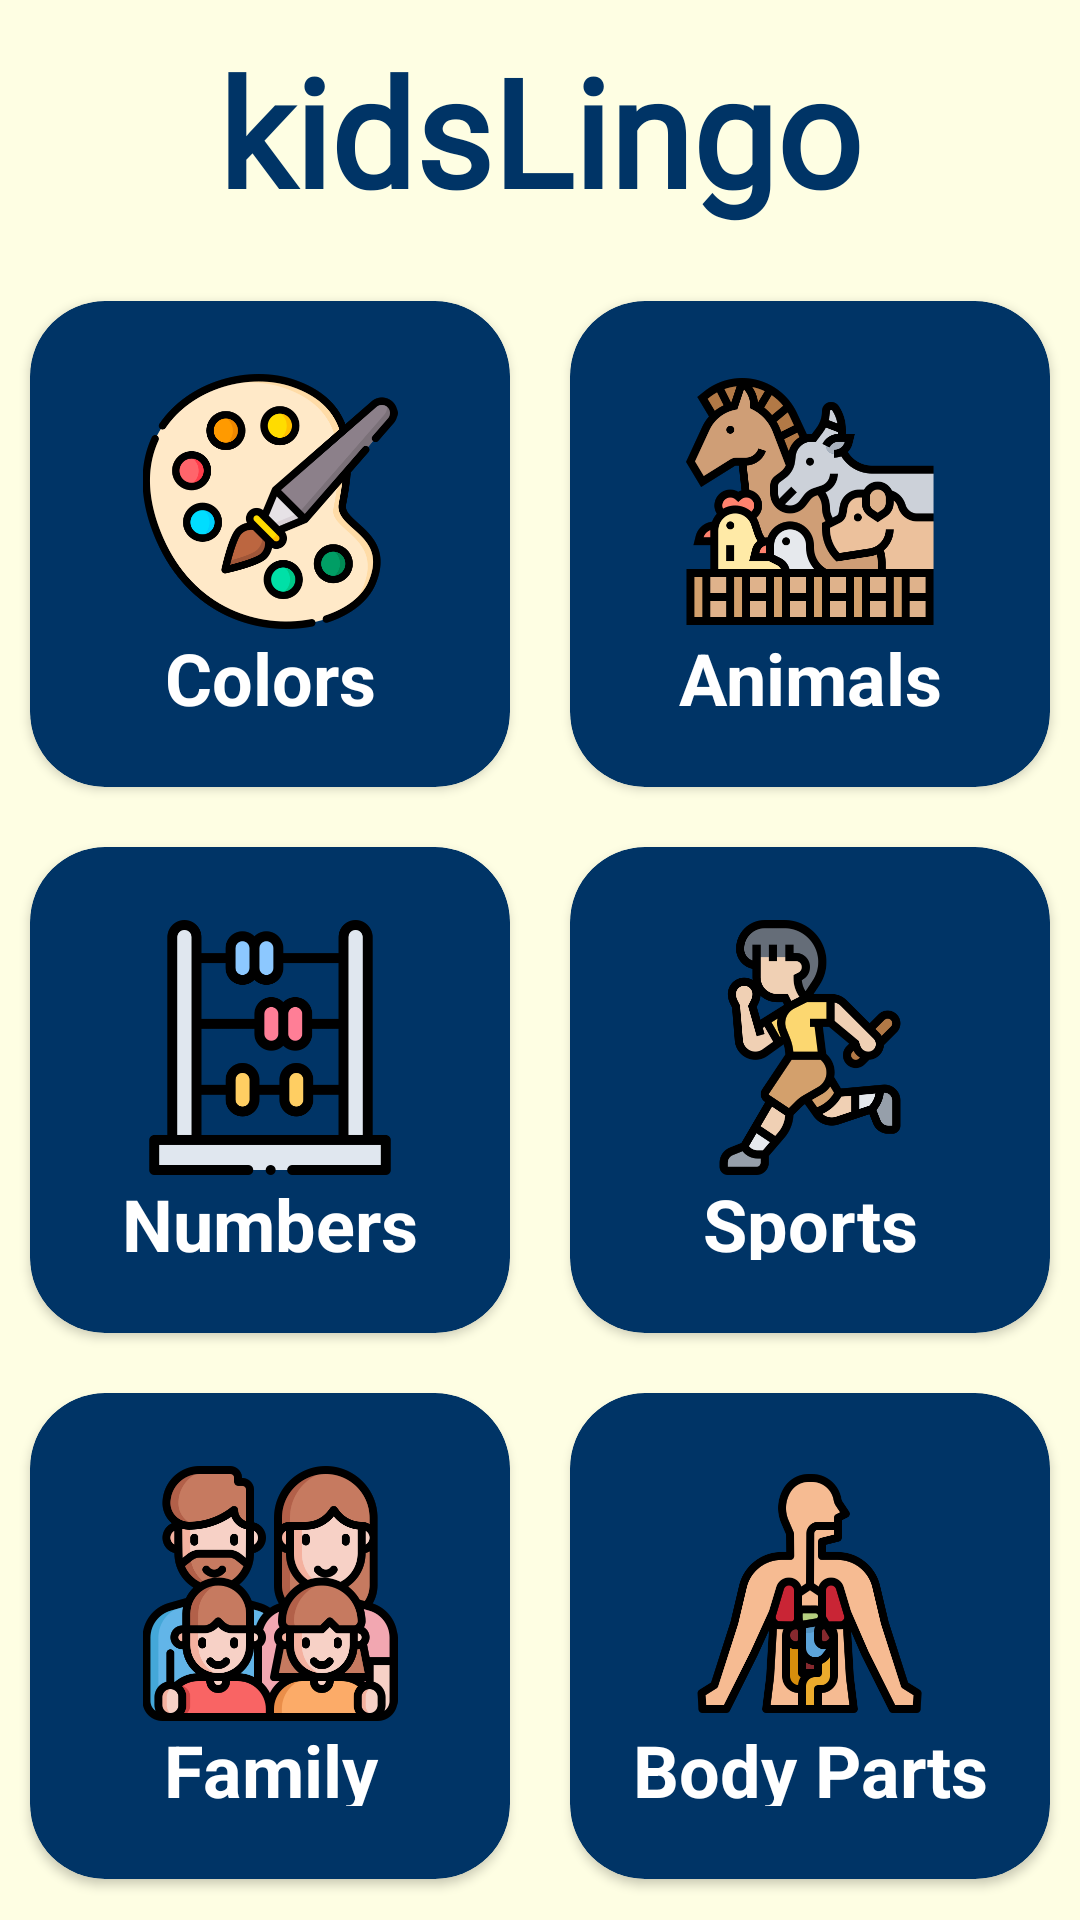

Icons on this 1080×1920 Android screen, each with the point to tap as point (x, y):
organs: point (809, 1593)
